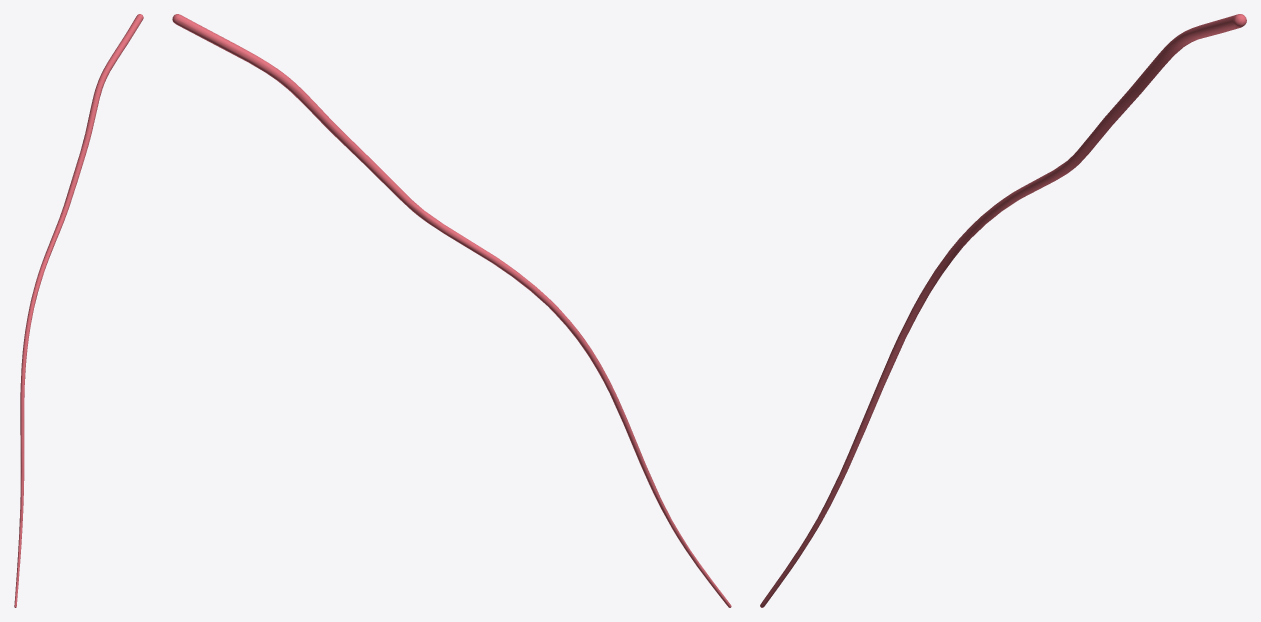
Rendered from fma22920_fj2350.glb.
3 renders of one model, left to right at view 1: azimuth 30°, elevation 25°; view 2: azimuth 150°, elevation 25°; view 3: azimuth 270°, elevation 25°, orthographic. The views are drawn at different scales.
Parts seen in each view (by area): view 1: FMA22920_FJ2350; view 2: FMA22920_FJ2350; view 3: FMA22920_FJ2350.
Part boxes in pixels (x1,y1,x2,y2): FMA22920_FJ2350: (14,14,143,607); FMA22920_FJ2350: (172,14,731,607); FMA22920_FJ2350: (760,14,1246,607).
Size of the model in its own units: 0.0592 by 0.097 by 0.052.
